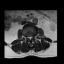CCS_normal: (29, 34, 31, 41)
LFS_severe_stenosis: (32, 35, 34, 38)
LLS_stenosis: (31, 35, 32, 39)
RFS_severe_stenosis: (26, 35, 27, 38)
RLS_stenosis: (27, 35, 29, 39)
